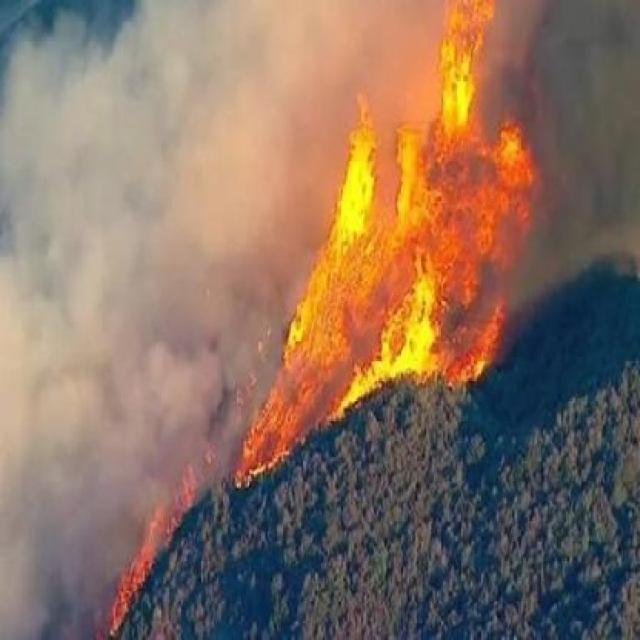Fire: (228, 2, 546, 504), (85, 468, 196, 626)
Smoke: (2, 6, 230, 472)
